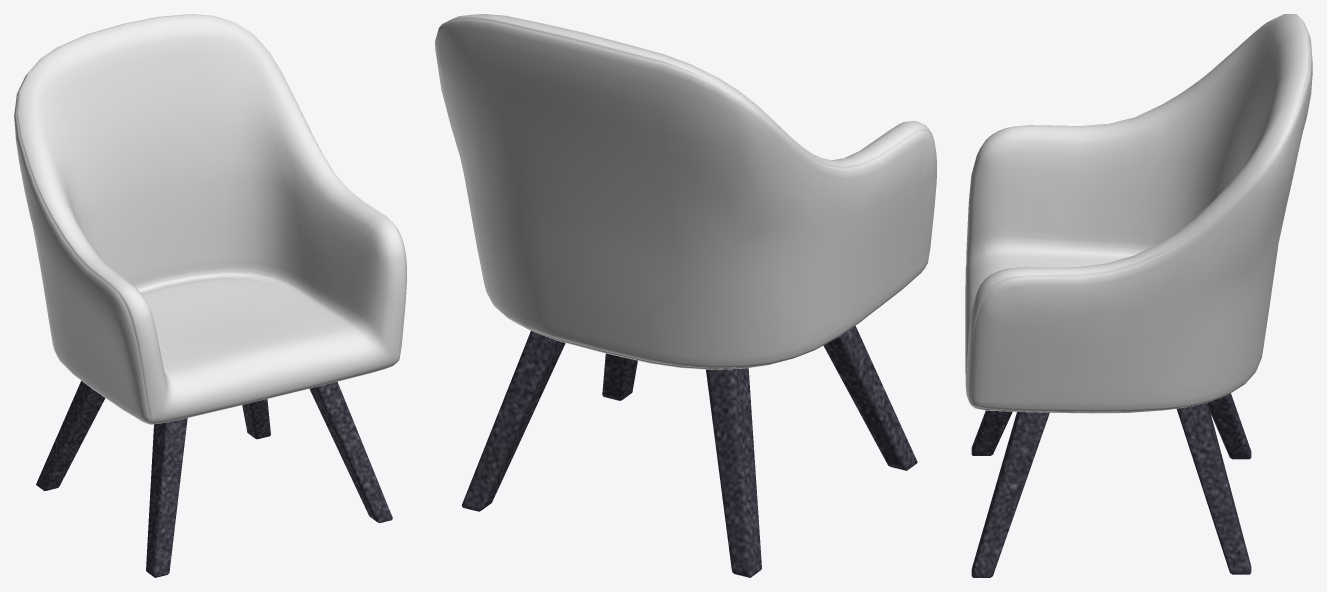
The model's file is original-basic.glb.
The picture shows the model from 3 angles, left to right: view 1: azimuth 30°, elevation 25°; view 2: azimuth 150°, elevation 25°; view 3: azimuth 270°, elevation 25°; orthographic projection. The views are drawn at different scales.
Visible parts, largest first — view 1: seat_mesh_n3d, leg_004_mesh_n3d, leg_003_mesh_n3d, leg_002_mesh_n3d, leg_001_mesh_n3d; view 2: seat_mesh_n3d, leg_002_mesh_n3d, leg_001_mesh_n3d, leg_004_mesh_n3d, leg_003_mesh_n3d; view 3: seat_mesh_n3d, leg_001_mesh_n3d, leg_003_mesh_n3d, leg_002_mesh_n3d, leg_004_mesh_n3d.
Part boxes in pixels (x1,y1,x2,y2): seat_mesh_n3d: (14,14,406,424); leg_004_mesh_n3d: (146,418,187,577); leg_003_mesh_n3d: (309,381,392,523); leg_002_mesh_n3d: (36,381,105,491); leg_001_mesh_n3d: (242,399,270,439); seat_mesh_n3d: (435,14,936,369); leg_002_mesh_n3d: (706,368,761,577); leg_001_mesh_n3d: (461,331,565,511); leg_004_mesh_n3d: (823,326,917,470); leg_003_mesh_n3d: (602,353,637,400); seat_mesh_n3d: (965,14,1312,413); leg_001_mesh_n3d: (1176,402,1251,574); leg_003_mesh_n3d: (971,412,1049,577); leg_002_mesh_n3d: (1208,393,1251,459); leg_004_mesh_n3d: (971,410,1012,455).
Bounding box in the file's own units: 0.8208 × 1.14 × 0.7759.
Materials: 2 (2 with a texture image).
